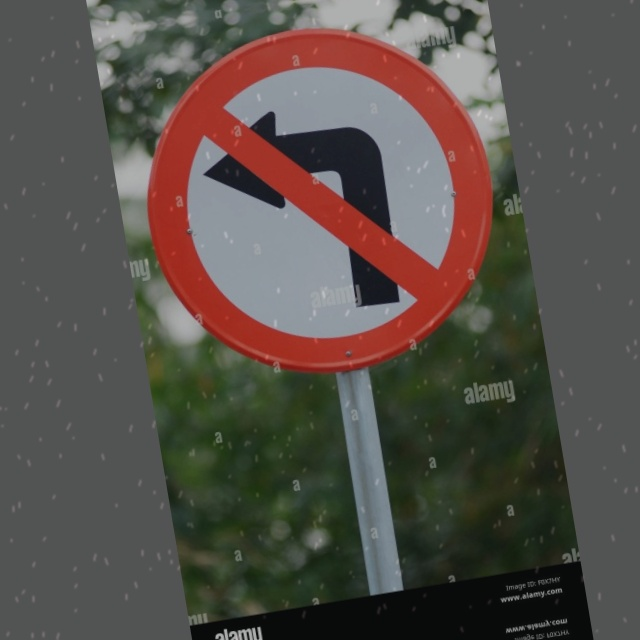Left_Turn_Prohibited: (120, 3, 519, 396)
